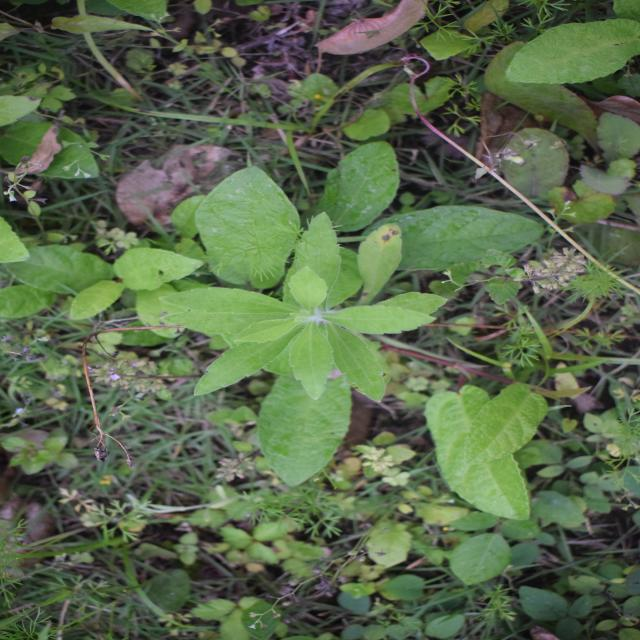horseweed: (231, 166, 402, 435)
